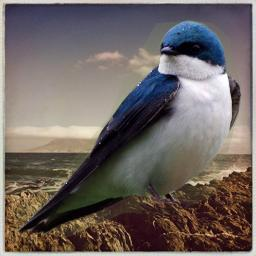Swallow: (16, 20, 241, 237)
